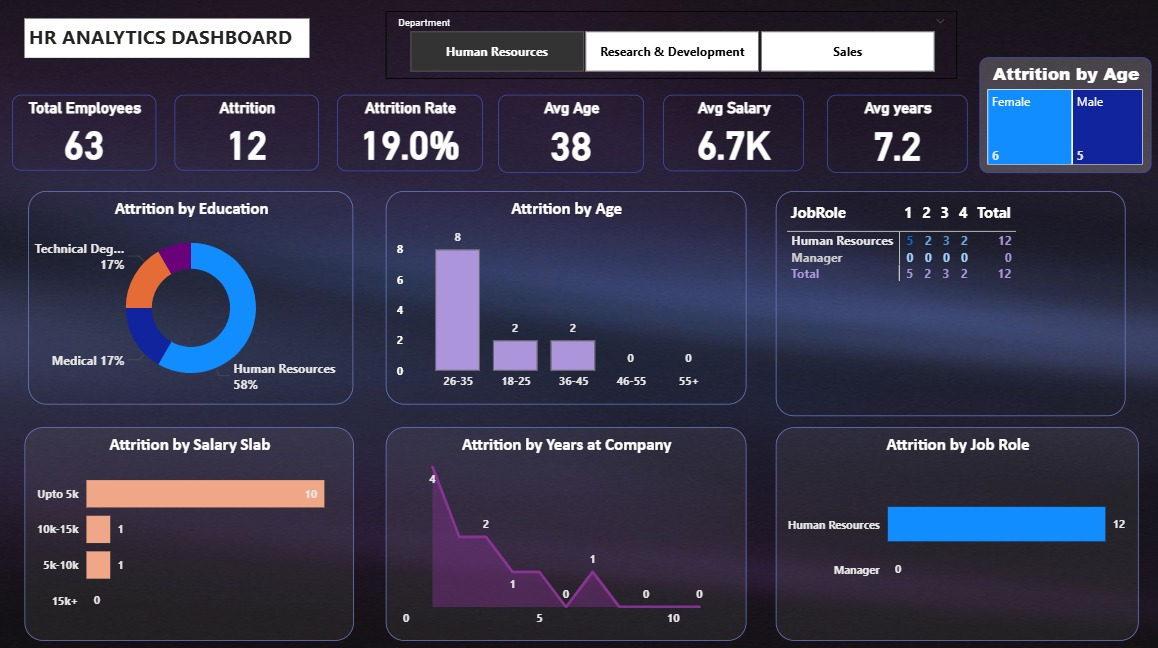

The dashboard page shown, as its layout file describes it:
{"tool":"powerbi","page":{"name":"Page 1","canvas":[1280,720],"ordinal":0},"visuals":[{"type":"card","title":"Total Employees","fields":{"Values":["CountNonNull(HR_Analytics.EmpID)"]},"box":[16.1,108.7,158.6,82.9],"z":0},{"type":"card","title":"Attrition","fields":{"Values":["Sum(HR_Analytics.AttritionCount)"]},"box":[194.6,108.7,158.6,82.9],"z":1000},{"type":"card","title":"Attrition Rate","fields":{"Values":["HR_Analytics.AttritionRate"]},"box":[373.2,108.7,160,84.3],"z":2000},{"type":"card","title":"Avg Age","fields":{"Values":["Avg(HR_Analytics.Age)"]},"box":[550.3,108.7,160,85.7],"z":3000},{"type":"card","title":"Avg Salary","fields":{"Values":["Avg(HR_Analytics.MonthlyIncome)"]},"box":[731.8,108.7,154.3,84.3],"z":4000},{"type":"card","title":"Avg years","fields":{"Values":["Avg(HR_Analytics.YearsAtCompany)"]},"box":[911.8,108.7,154.3,85.7],"z":5000},{"type":"donutChart","title":"Attrition by Education","fields":{"Category":["HR_Analytics.EducationField"],"Y":["Sum(HR_Analytics.AttritionCount)"]},"box":[34.3,214.3,357.1,234.3],"z":6000},{"type":"columnChart","title":"Attrition by Age","fields":{"Category":["HR_Analytics.AgeGroup"],"Y":["Sum(HR_Analytics.AttritionCount)"]},"box":[427.1,214.3,395.7,234.3],"z":7000},{"type":"pivotTable","fields":{"Rows":["HR_Analytics.JobRole"],"Columns":["HR_Analytics.JobSatisfaction"],"Values":["Sum(HR_Analytics.AttritionCount)"]},"box":[854.9,214.1,384.2,247],"z":8000},{"type":"barChart","title":"Attrition by Salary Slab","fields":{"Category":["HR_Analytics.SalarySlab"],"Y":["Sum(HR_Analytics.AttritionCount)"]},"box":[30,472.9,361.4,234.3],"z":9000},{"type":"barChart","title":"Attrition by Job Role","fields":{"Category":["HR_Analytics.JobRole"],"Y":["Sum(HR_Analytics.AttritionCount)"]},"box":[854.3,472.9,398.6,234.3],"z":10000},{"type":"areaChart","title":"Attrition by Years at Company","fields":{"Category":["HR_Analytics.YearsAtCompany"],"Y":["Sum(HR_Analytics.AttritionCount)"]},"box":[427.1,472.9,395.7,234.3],"z":11000},{"type":"treemap","title":"Attrition by Age","fields":{"Group":["HR_Analytics.Gender"],"Values":["Sum(HR_Analytics.AttritionCount)"]},"box":[1078.6,67.1,188.6,127.1],"z":12000},{"type":"slicer","fields":{"Values":["HR_Analytics.Department"]},"box":[427.1,17.1,627.1,74.3],"z":13000},{"type":"textbox","box":[30,24.3,312.9,42.9],"z":14000}]}

Visuals, with their boxes in screenshot pixels (x1, y1, x2, y2), scaled from the page's 1280x720 canvas onto the 1158x648 screenshot:
"Total Employees" card: region(15, 98, 158, 172)
"Attrition" card: region(176, 98, 320, 172)
"Attrition Rate" card: region(338, 98, 482, 174)
"Avg Age" card: region(498, 98, 643, 175)
"Avg Salary" card: region(662, 98, 802, 174)
"Avg years" card: region(825, 98, 964, 175)
"Attrition by Education" donutChart: region(31, 193, 354, 404)
"Attrition by Age" columnChart: region(386, 193, 744, 404)
pivotTable - HR_Analytics.JobRole x HR_Analytics.JobSatisfaction: region(773, 193, 1121, 415)
"Attrition by Salary Slab" barChart: region(27, 426, 354, 636)
"Attrition by Job Role" barChart: region(773, 426, 1133, 636)
"Attrition by Years at Company" areaChart: region(386, 426, 744, 636)
"Attrition by Age" treemap: region(976, 60, 1146, 175)
slicer - HR_Analytics.Department: region(386, 15, 954, 82)
textbox: region(27, 22, 310, 60)
